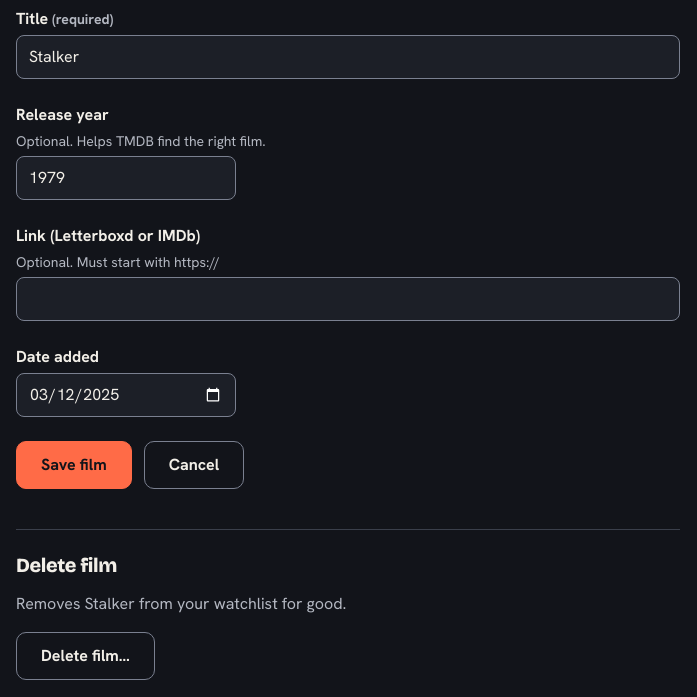
Test case: FilmFormView: edit › reports a failed delete and closes the question
(page scrolled)
Click the button "Delete film…" at (85, 656), box [16, 632, 155, 680]
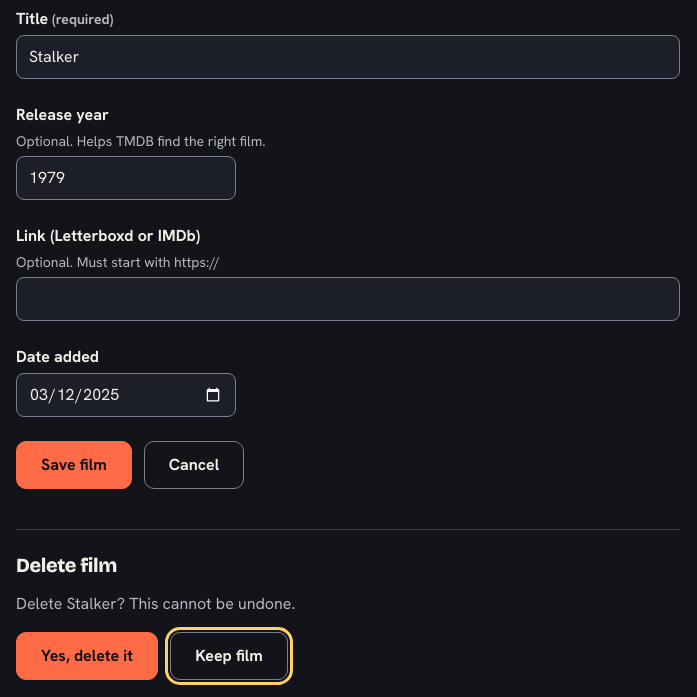
Click the button "Yes, delete it" at (87, 656), box [16, 632, 158, 680]
(page scrolled)
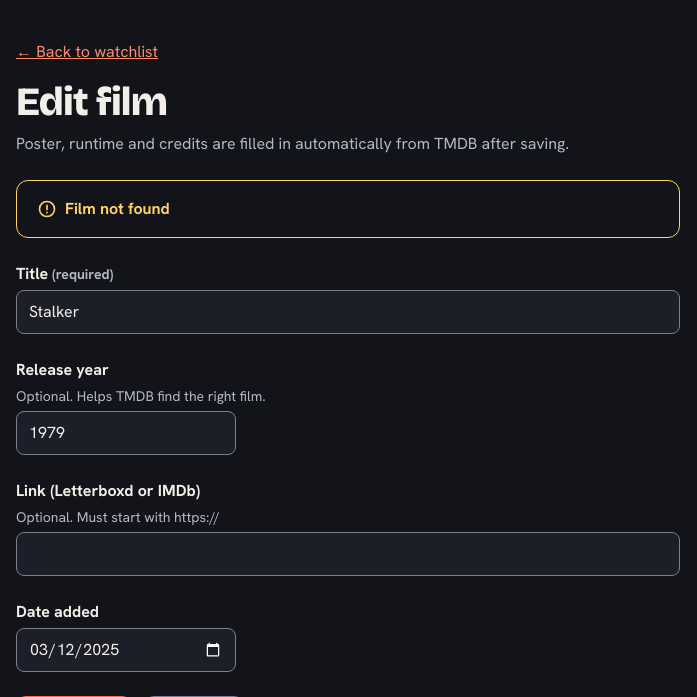
Now the message "Film not found" is shown, box [16, 180, 680, 238]
